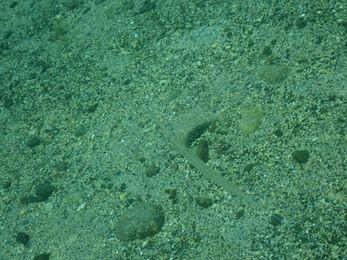Fistularia commersonii: (117, 117, 274, 232)
